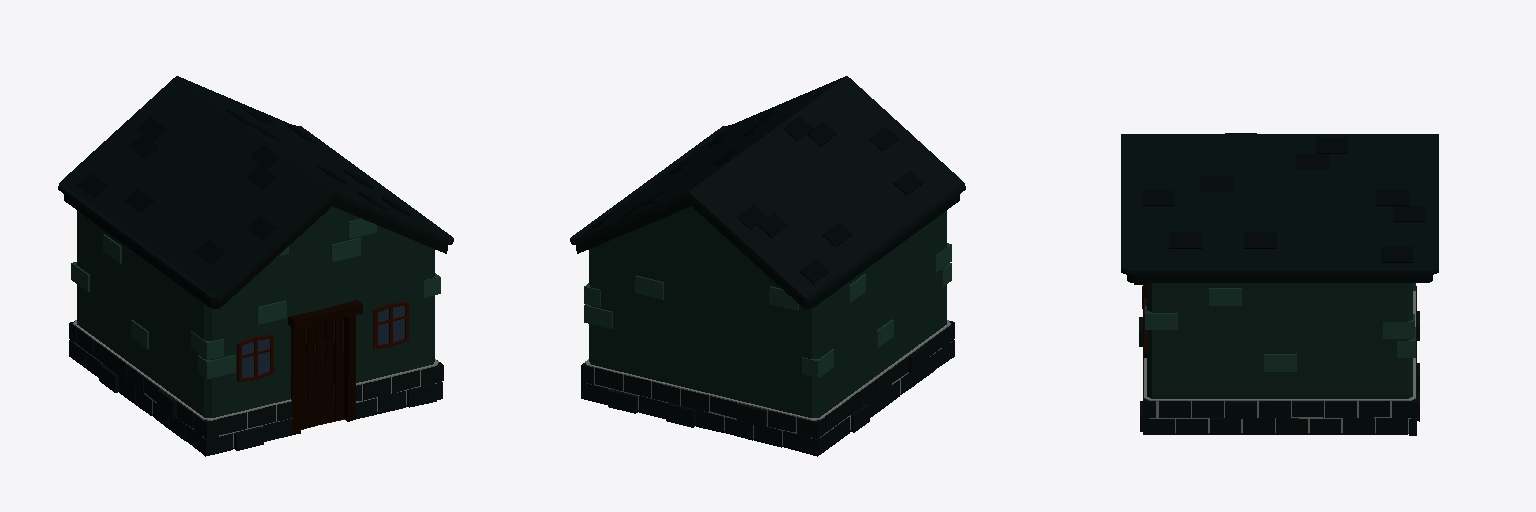
Rendered from 1Story_GableRoof_Mat.obj.
3 views of the same model, side by side, from view 1: azimuth 30°, elevation 25°; view 2: azimuth 150°, elevation 25°; view 3: azimuth 270°, elevation 25° (orthographic).
Parts seen in each view (by area): view 1: 1Story_GableRoof_Mat_Cube.042; view 2: 1Story_GableRoof_Mat_Cube.042; view 3: 1Story_GableRoof_Mat_Cube.042.
Part boxes in pixels (left/top/right/bottom): 1Story_GableRoof_Mat_Cube.042: left=58, top=76, right=453, bottom=456; 1Story_GableRoof_Mat_Cube.042: left=570, top=76, right=965, bottom=456; 1Story_GableRoof_Mat_Cube.042: left=1121, top=133, right=1438, bottom=435.
Bounding box in the file's own units: 2.11 × 2.02 × 2.38.